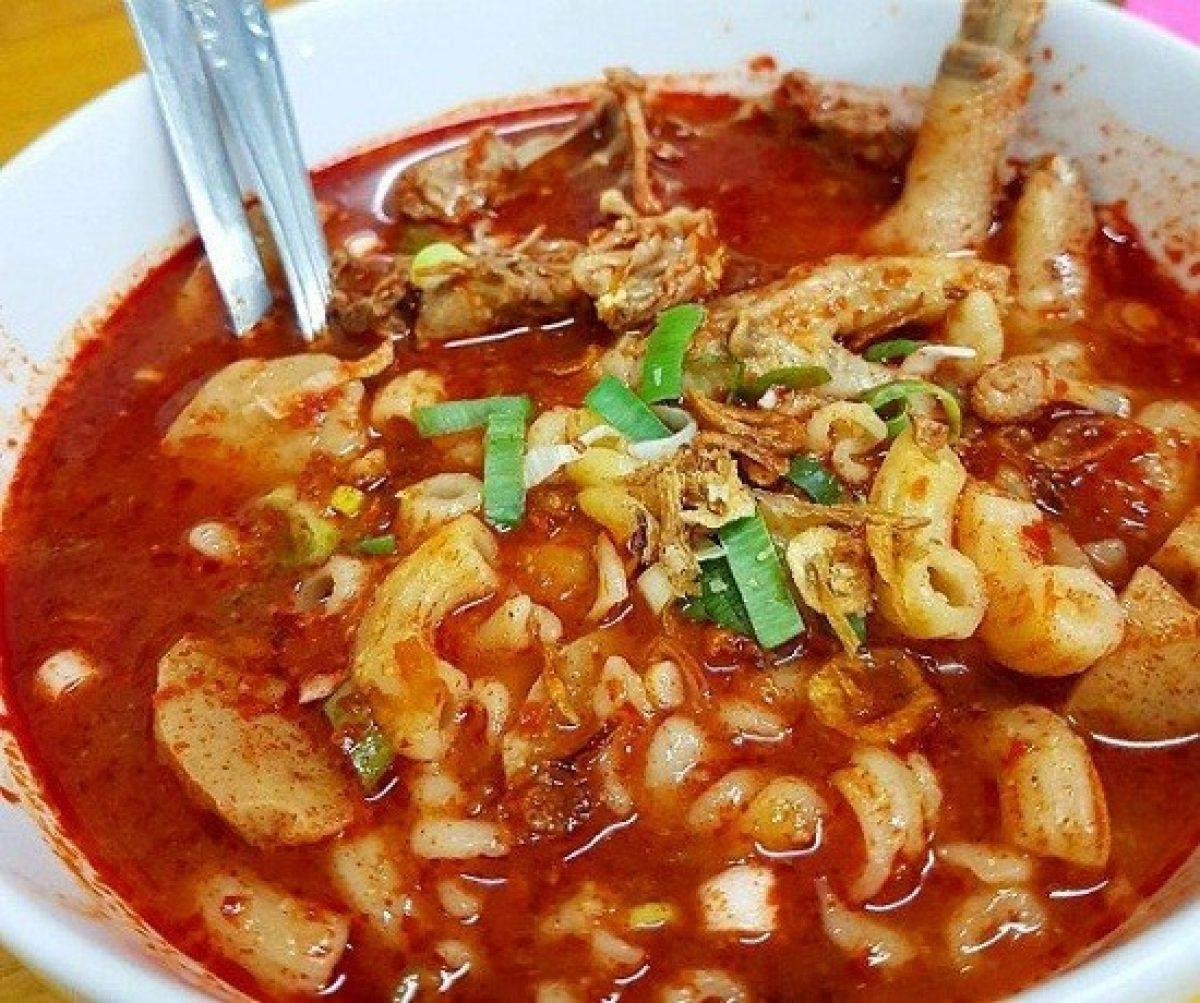seblak: (4, 85, 1200, 1003)
